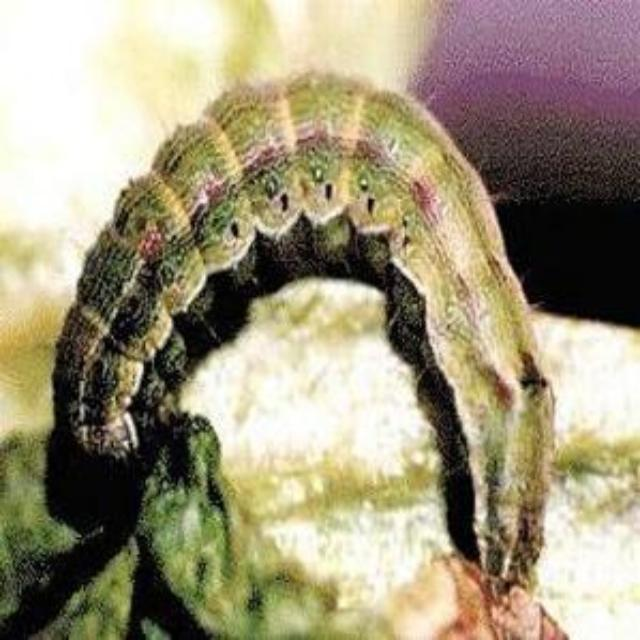Cotton bollworm: (29, 49, 570, 607)
